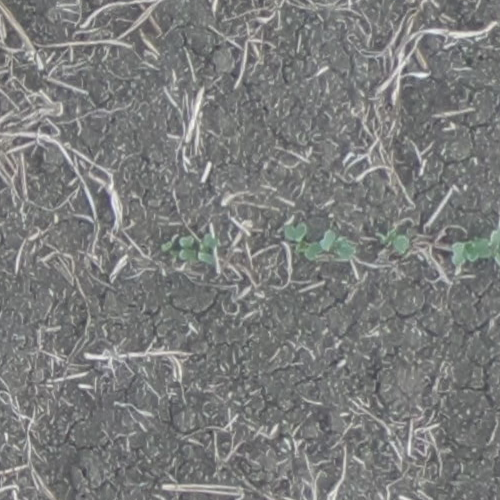plant: (450, 227, 499, 275), (285, 221, 322, 261), (322, 230, 351, 263), (373, 227, 408, 253), (199, 231, 214, 265), (179, 232, 196, 260)
